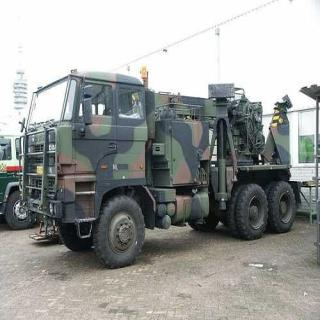Towing_truck: (16, 65, 300, 269)
